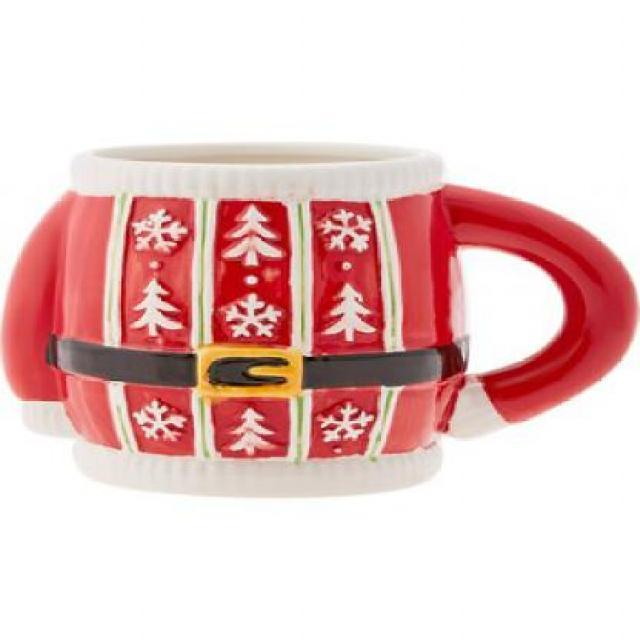taza: (1, 140, 640, 501)
